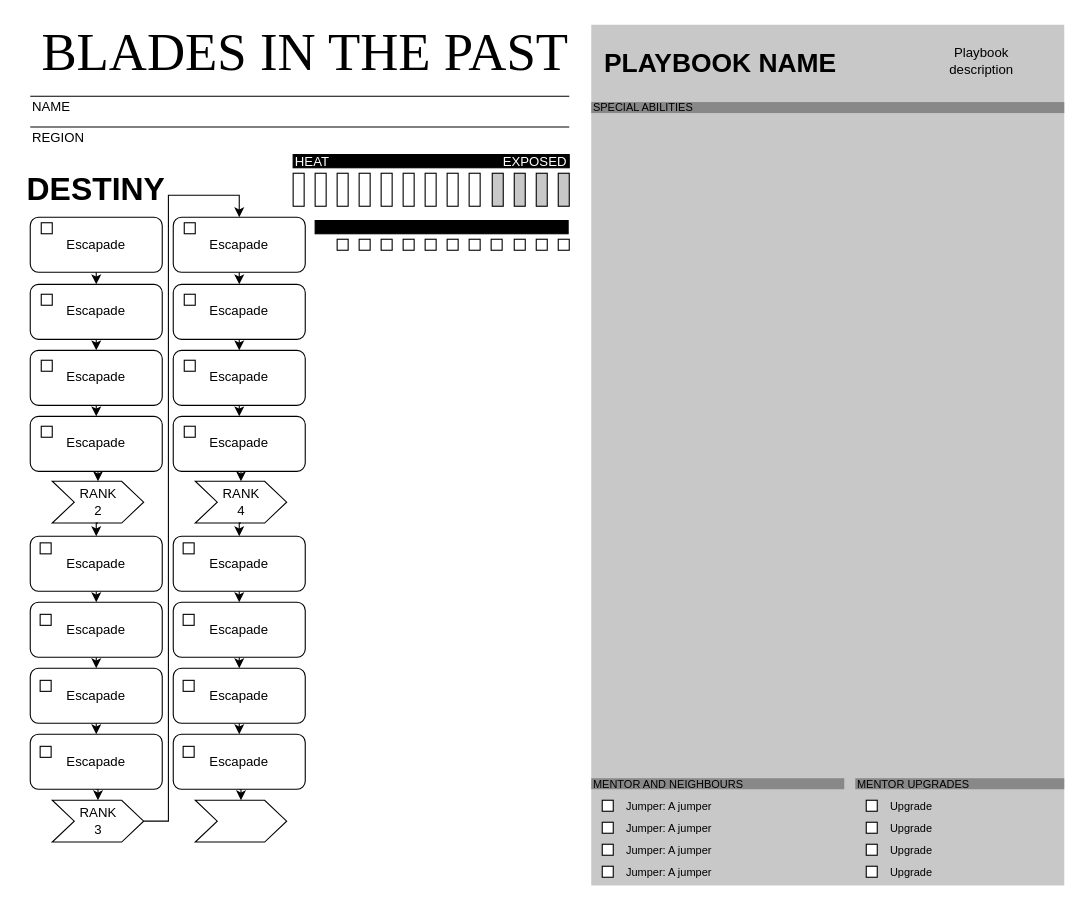
Some shapes in this 1082 by 904 pixel diagram are drawn without their labels. The centre of each missing label's shape, as x and y in pixels:
GRACES: the point at 441,226
RANK 5: the point at 240,820
